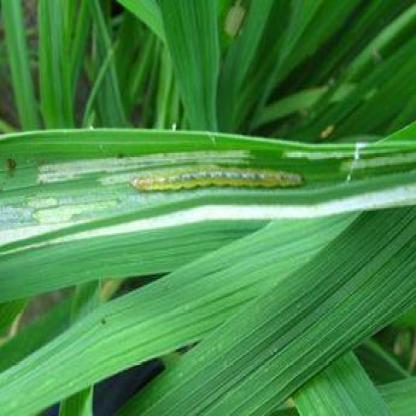leaf-folder: (121, 154, 314, 214)
